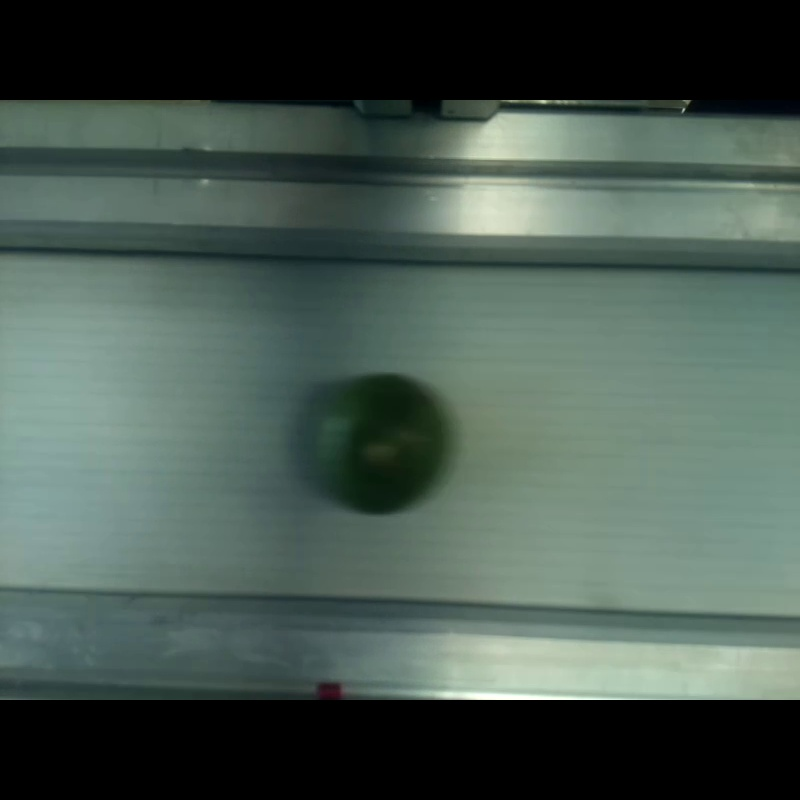lime: (310, 375, 444, 517)
